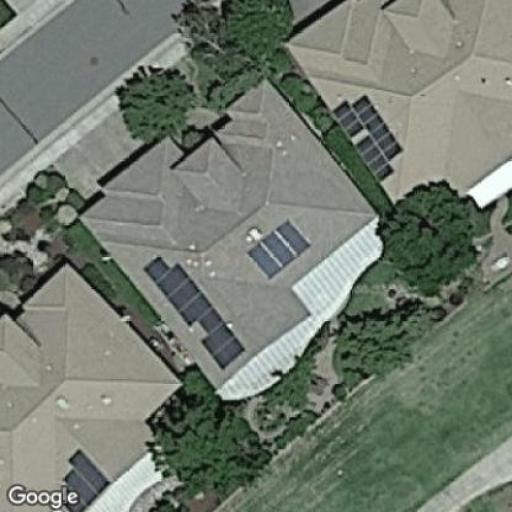solar-panel: (144, 250, 244, 372), (333, 93, 405, 181), (246, 215, 313, 282), (53, 449, 112, 511)
